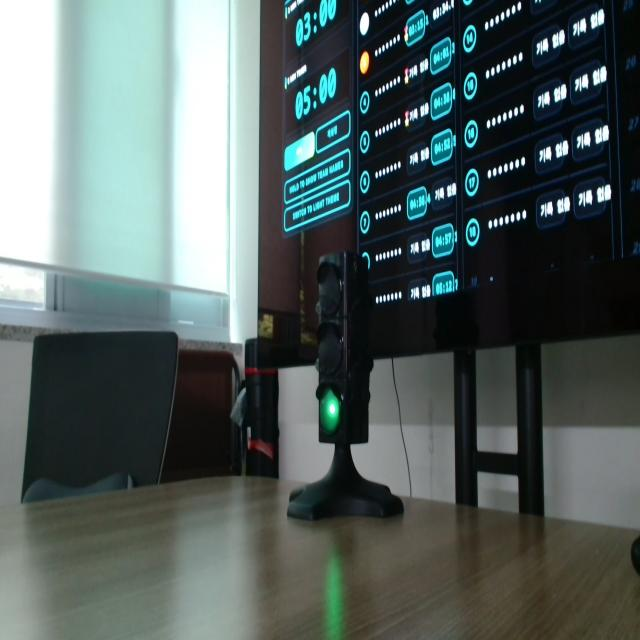green_light: (320, 388, 340, 435)
